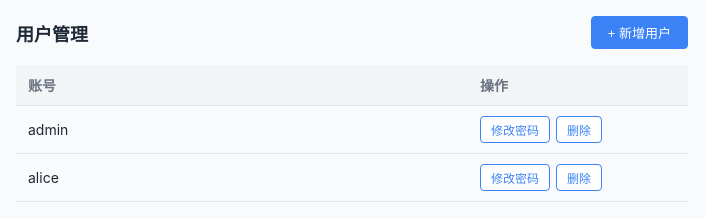
Scenario: Users - 删除用户 › 点确认 → 调 deleteUser + 列表刷新(成功后该行消失)
Check: the row with test id "user-row-alice" is shown, box [16,154,688,202]
Click the button with test id "delete-user-alice" at (579, 178), box [556,164,602,191]
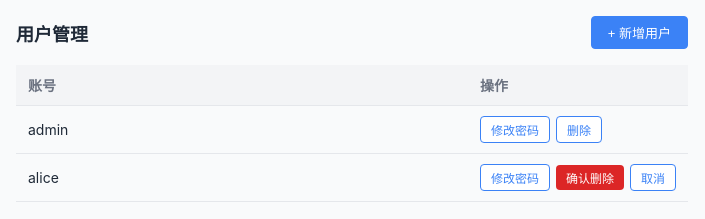
Click the button with test id "delete-confirm-alice" at (590, 178), box [556,165,624,190]
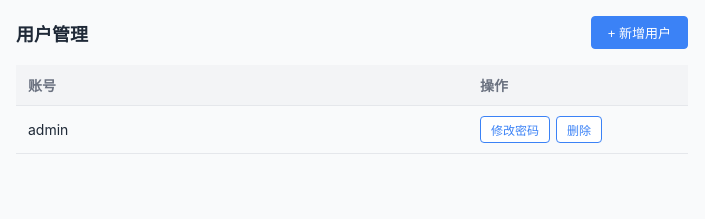
Check: the row with test id "user-row-admin" is shown, box [16,106,688,154]
Check: the row with test id "user-row-alice" is gone
